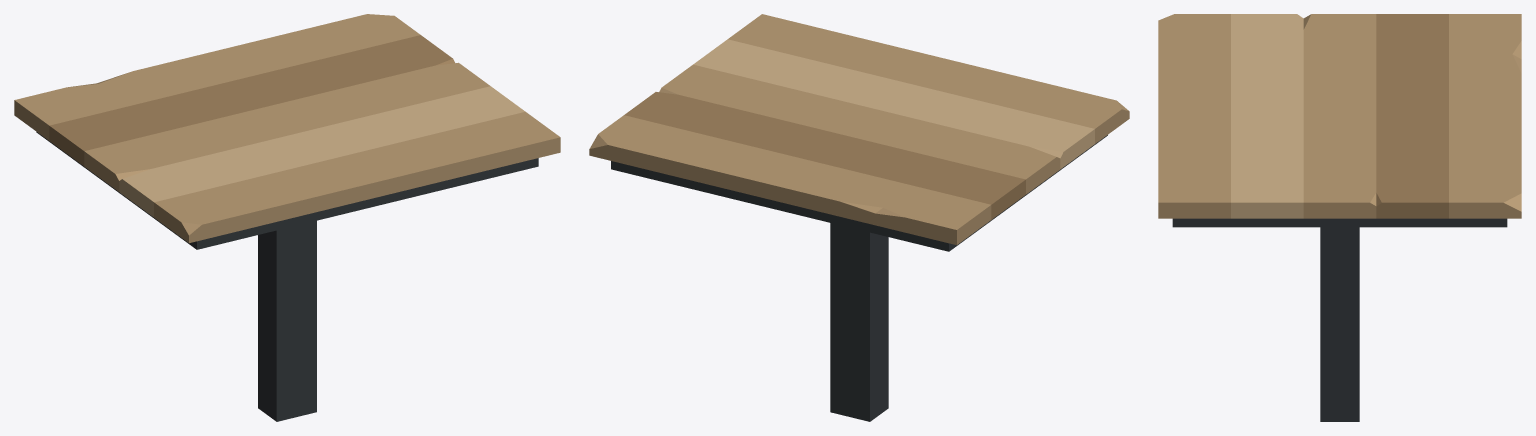
Rendered from SM_Prop_Table_01.fbx.
The picture shows the model from 3 angles, left to right: view 1: azimuth 30°, elevation 25°; view 2: azimuth 150°, elevation 25°; view 3: azimuth 270°, elevation 25°; orthographic projection. The views are drawn at different scales.
Visible parts, largest first — view 1: SM_Prop_Table_01; view 2: SM_Prop_Table_01; view 3: SM_Prop_Table_01.
Part boxes in pixels (left/top/right/bottom): SM_Prop_Table_01: left=14, top=14, right=560, bottom=421; SM_Prop_Table_01: left=589, top=14, right=1129, bottom=421; SM_Prop_Table_01: left=1158, top=14, right=1521, bottom=421.
Bounding box in the file's own units: 120 × 89.94 × 97.69.
